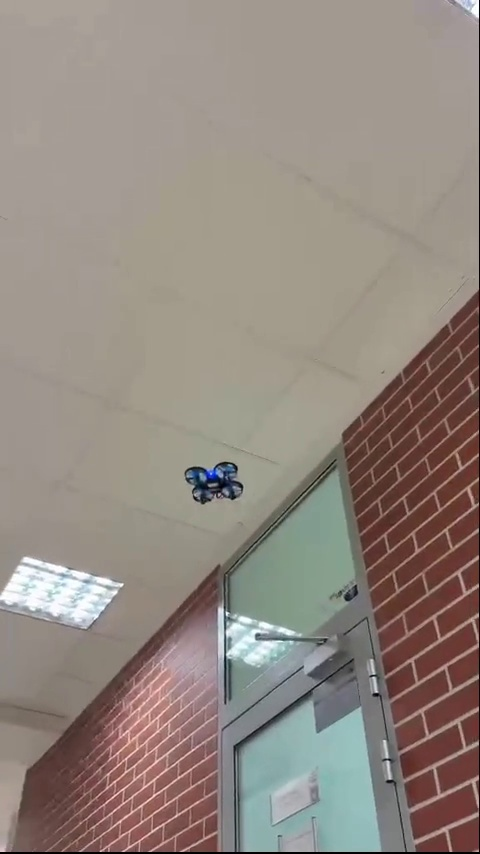drone: (183, 461, 243, 502)
